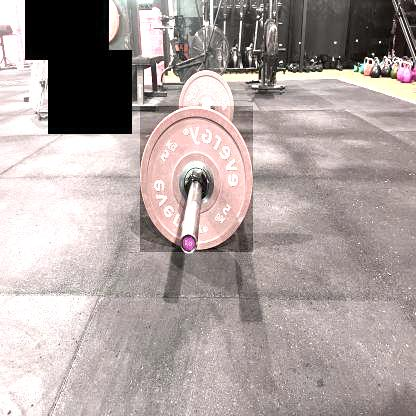barbell: (139, 106, 251, 252)
